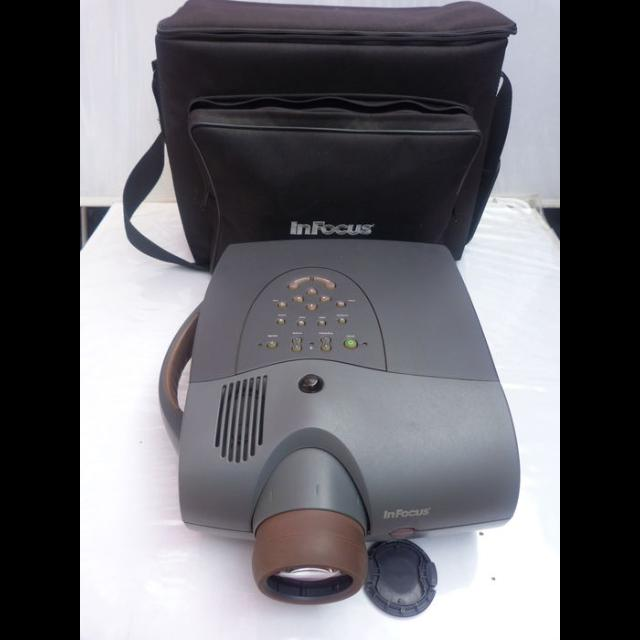Projector: (175, 186, 535, 610)
